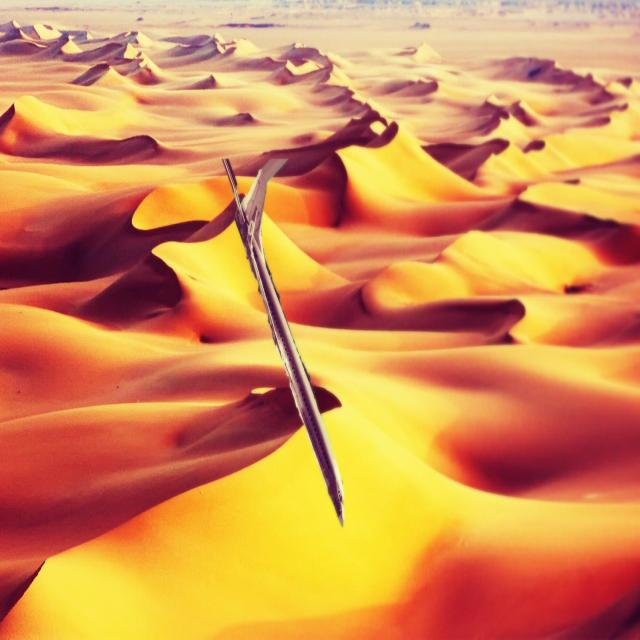airplane: (223, 158, 345, 529)
